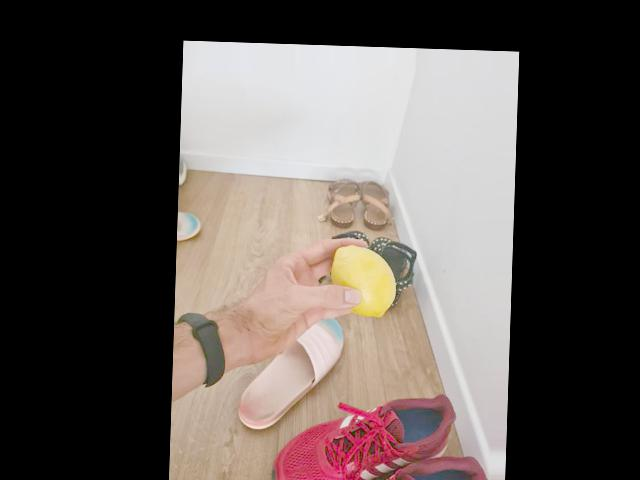lemon: (328, 244, 394, 319)
